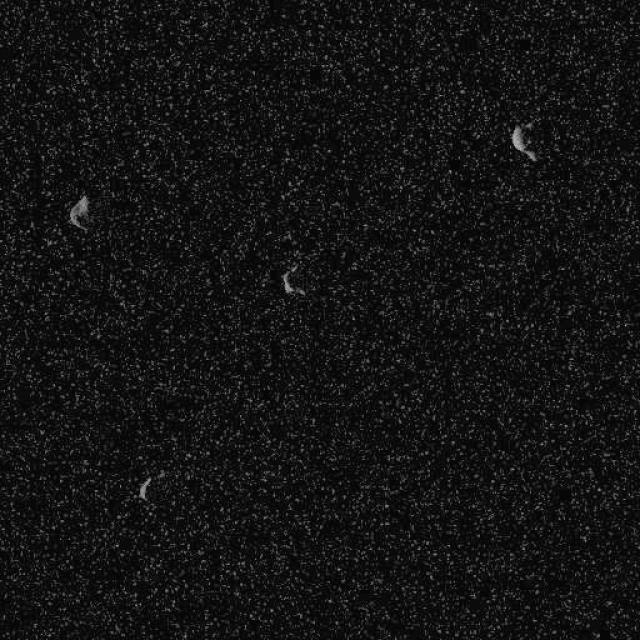D2: (510, 121, 539, 162), (66, 192, 90, 230), (280, 268, 306, 298), (136, 475, 152, 500)
